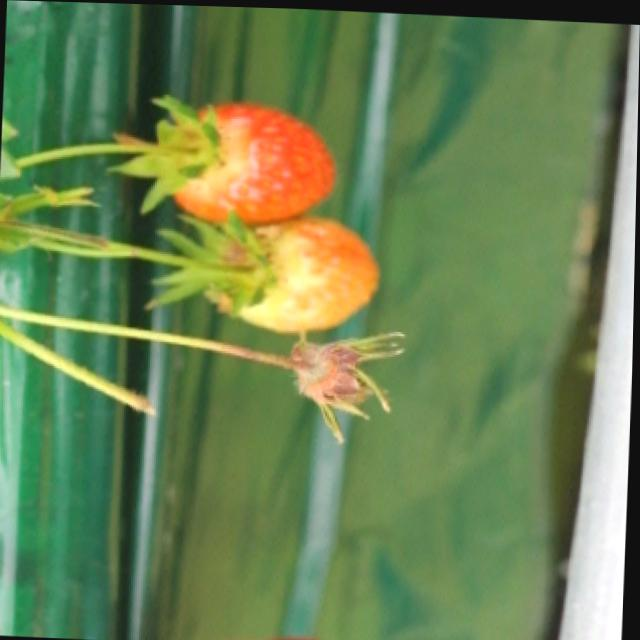Gray Mold: (269, 329, 406, 442)
